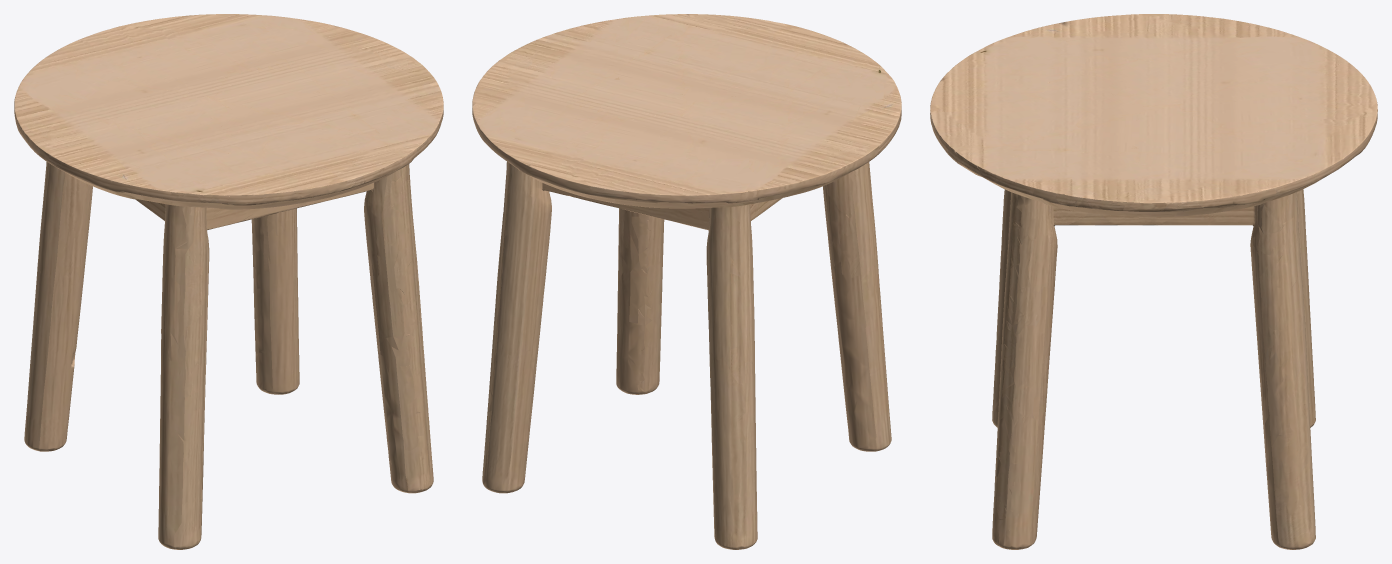
File: table.glb
3 views of the same model, side by side, from view 1: azimuth 30°, elevation 25°; view 2: azimuth 150°, elevation 25°; view 3: azimuth 270°, elevation 25° (orthographic). The views are drawn at different scales.
Size of the model in its own units: 1.9 by 1.76 by 1.9.
Materials: 1 (1 with a texture image).
